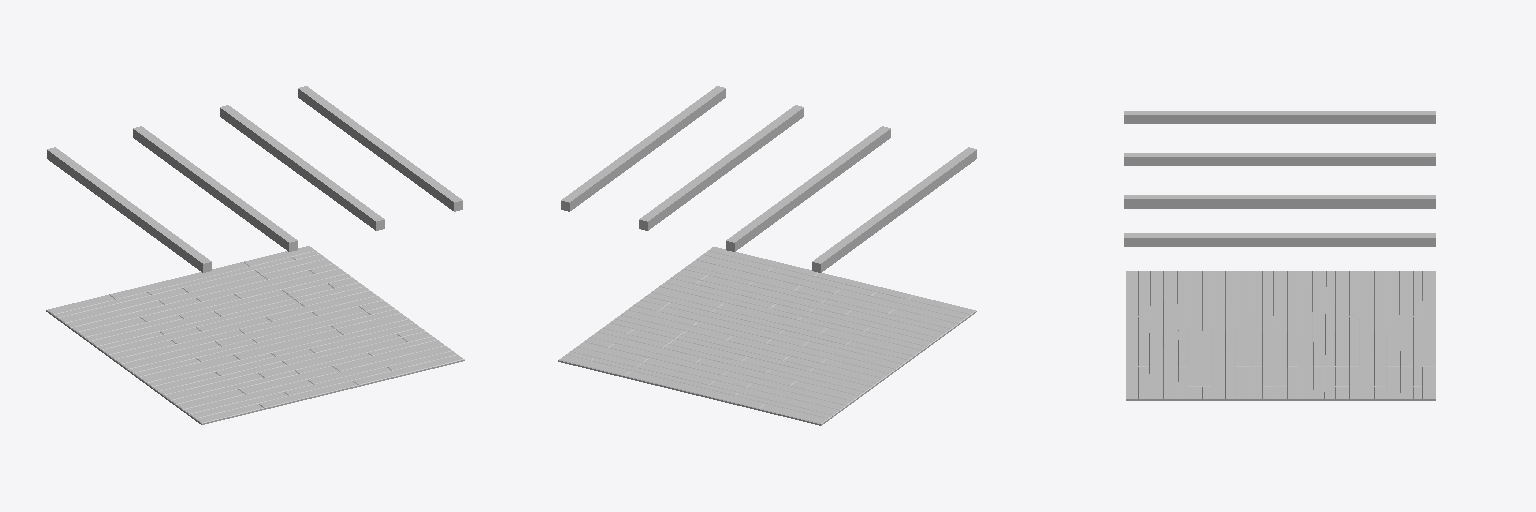
Rendered from MidBrownWood.obj.
The picture shows the model from 3 angles: view 1: azimuth 30°, elevation 25°; view 2: azimuth 150°, elevation 25°; view 3: azimuth 270°, elevation 25°; orthographic projection.
Visible parts, largest first — view 1: MidBrown; view 2: MidBrown; view 3: MidBrown.
Part boxes in pixels (x1,y1,x2,y2): MidBrown: (46,86,464,424); MidBrown: (558,86,976,425); MidBrown: (1124,111,1435,400).
Bounding box in the file's own units: 45.47 × 26.87 × 46.85.